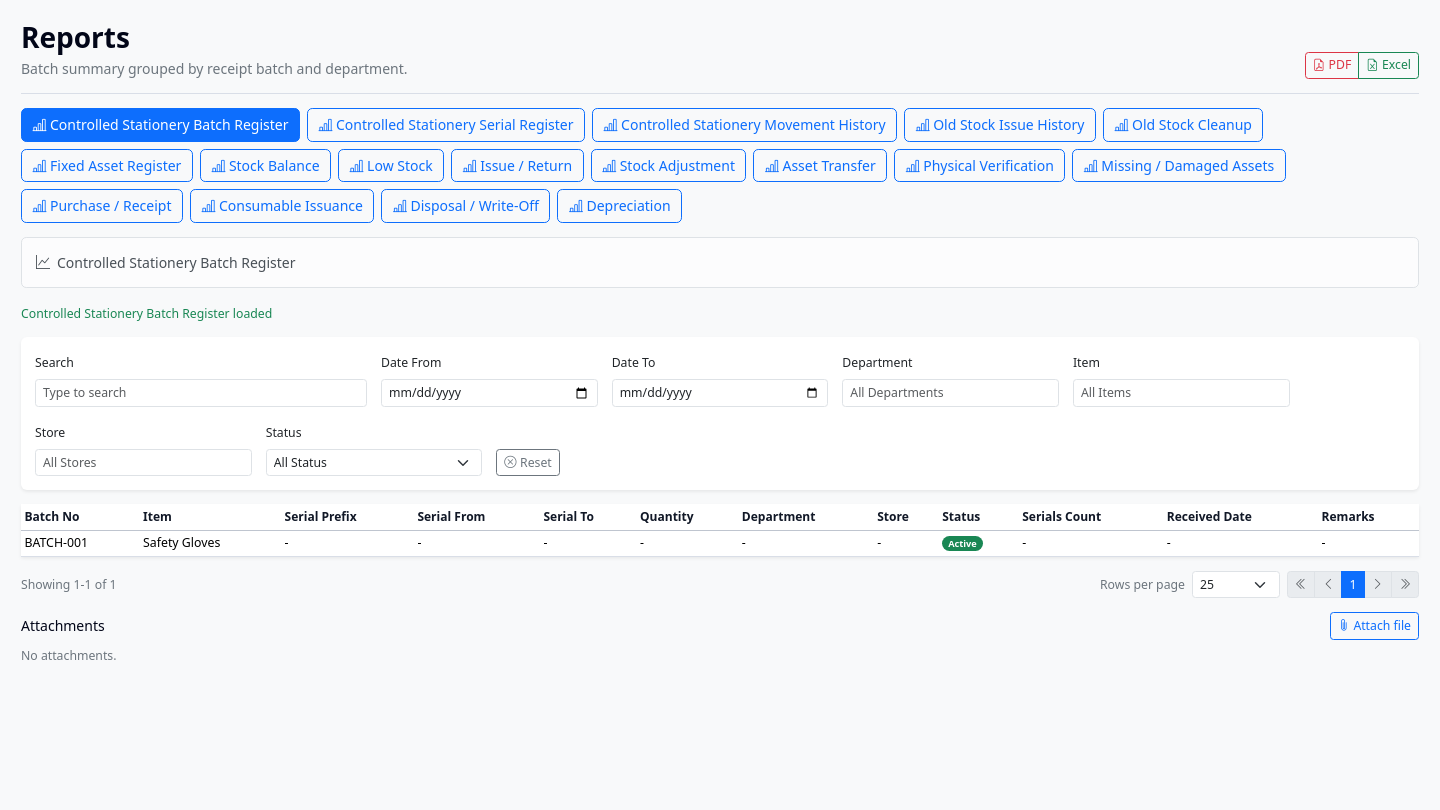
ReportsPage export and filter flow › shows backend error when export export request fails
This screenshot has width=1440, height=810.
Expected: the heading "Reports" is shown, [21, 18, 130, 56]
Expected: the text "Safety Gloves" is shown, [140, 530, 281, 556]
Type "Lab" into the field with placeholder "Type to search" at (201, 393), box [35, 379, 367, 407]
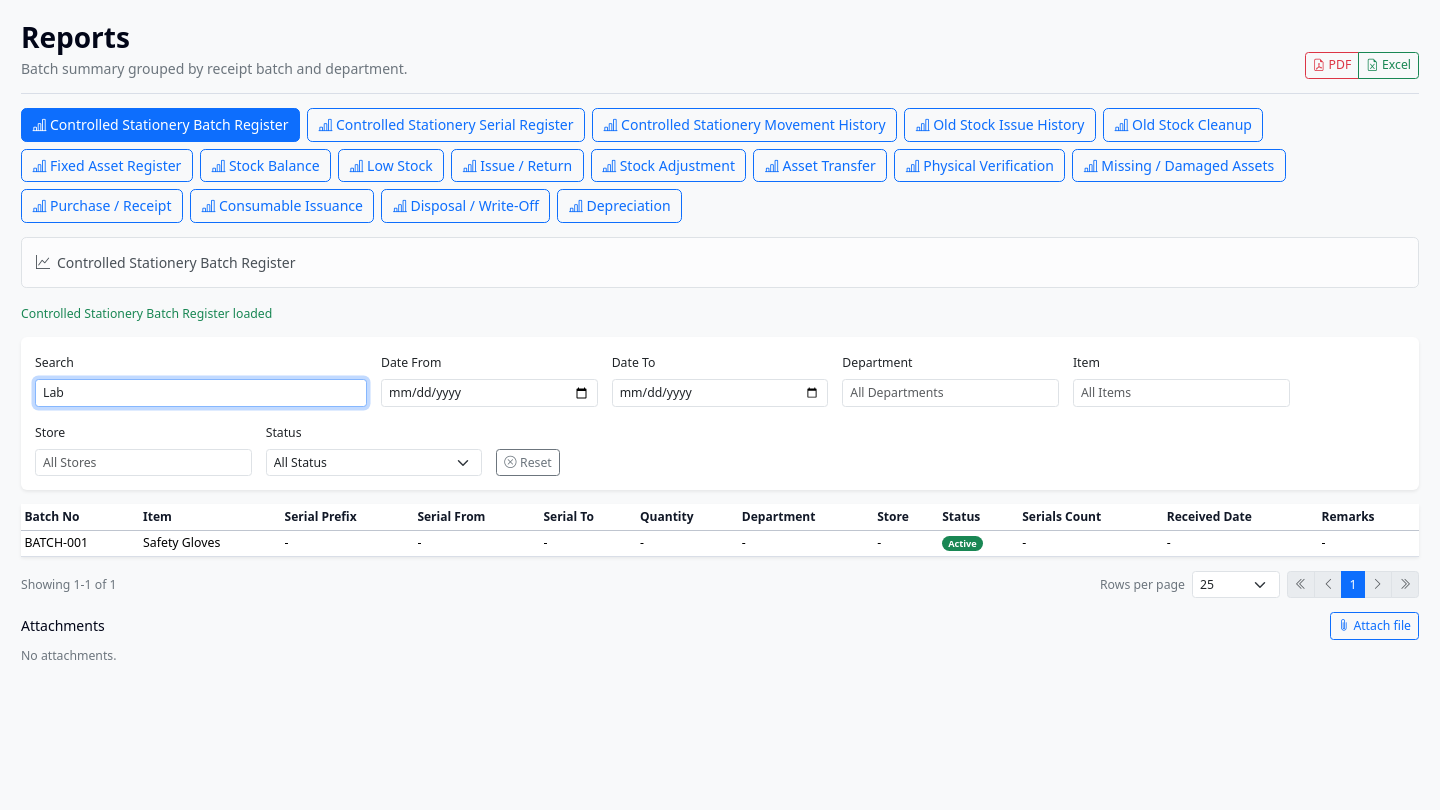
Click the button "Excel" at (1389, 65), box [1358, 52, 1419, 79]
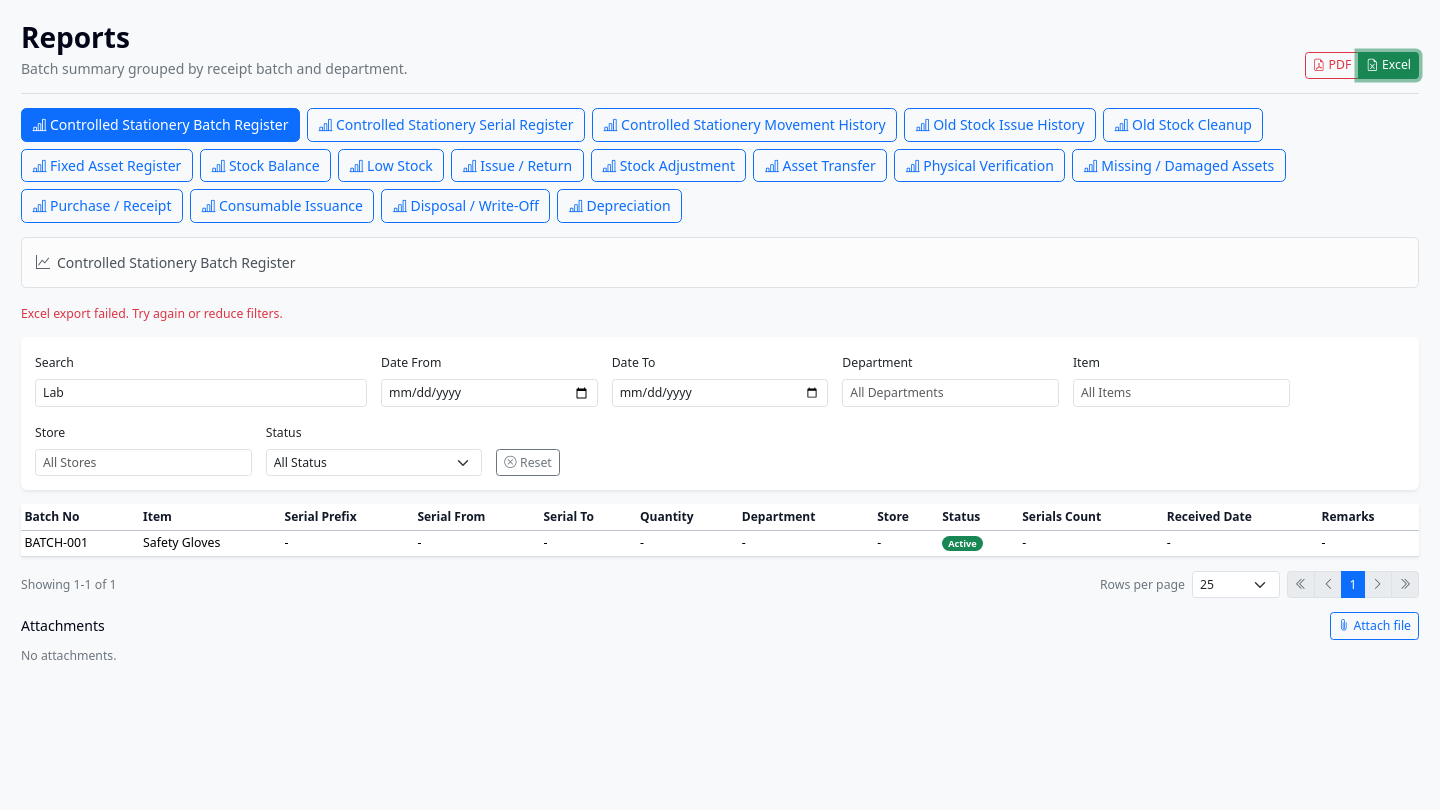
Expected: the text "Excel export failed. Try again or reduce filters." is shown, [21, 305, 283, 322]
